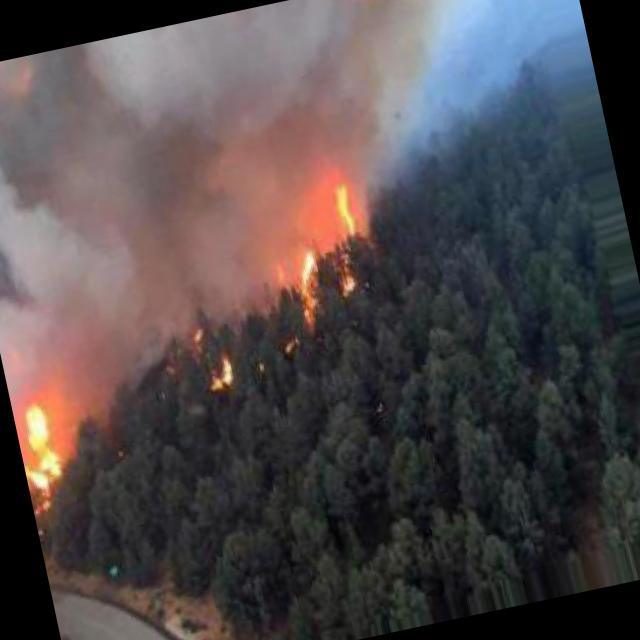fire: (266, 175, 378, 329), (14, 398, 72, 501), (184, 344, 258, 404)
